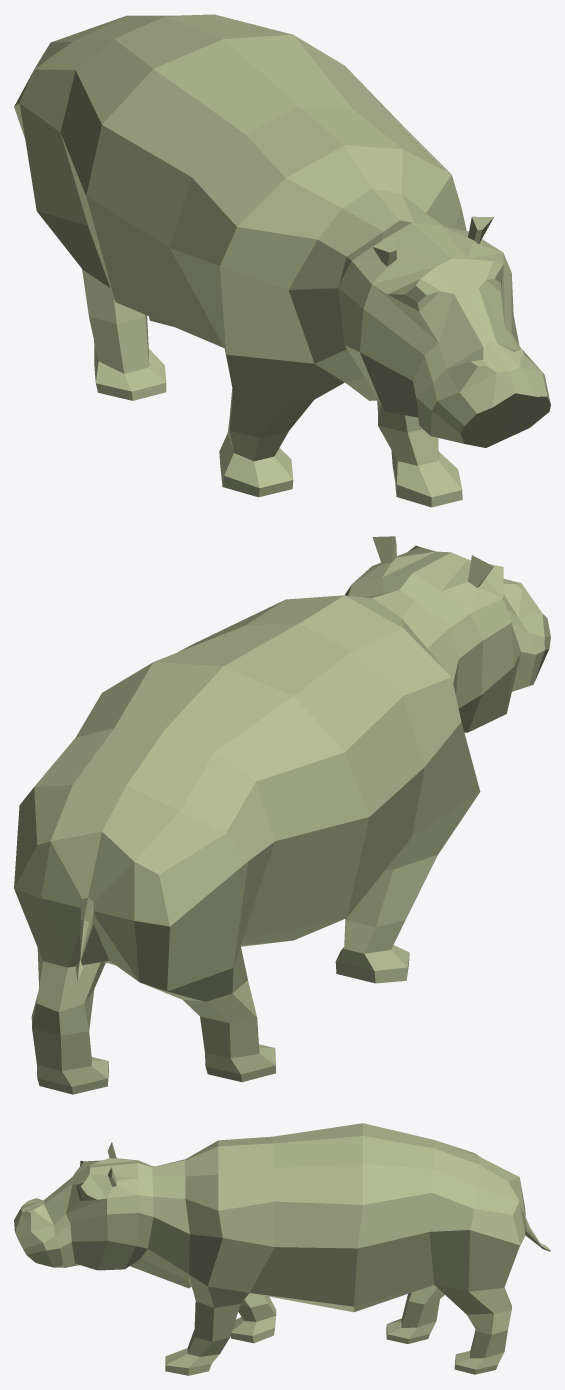
File: Nilpferd2.fbx
3 renders of one model, top to bottom at view 1: azimuth 30°, elevation 25°; view 2: azimuth 150°, elevation 25°; view 3: azimuth 270°, elevation 25°, orthographic. The views are drawn at different scales.
Visible parts, largest first — view 1: Nilpferd.002; view 2: Nilpferd.002; view 3: Nilpferd.002.
Boxes of the visible parts, <box> form: Nilpferd.002: <box>14,14,550,507</box>; Nilpferd.002: <box>14,536,550,1094</box>; Nilpferd.002: <box>14,1123,550,1375</box>.
Bounding box in the file's own units: 1.36 × 1.65 × 3.74.
